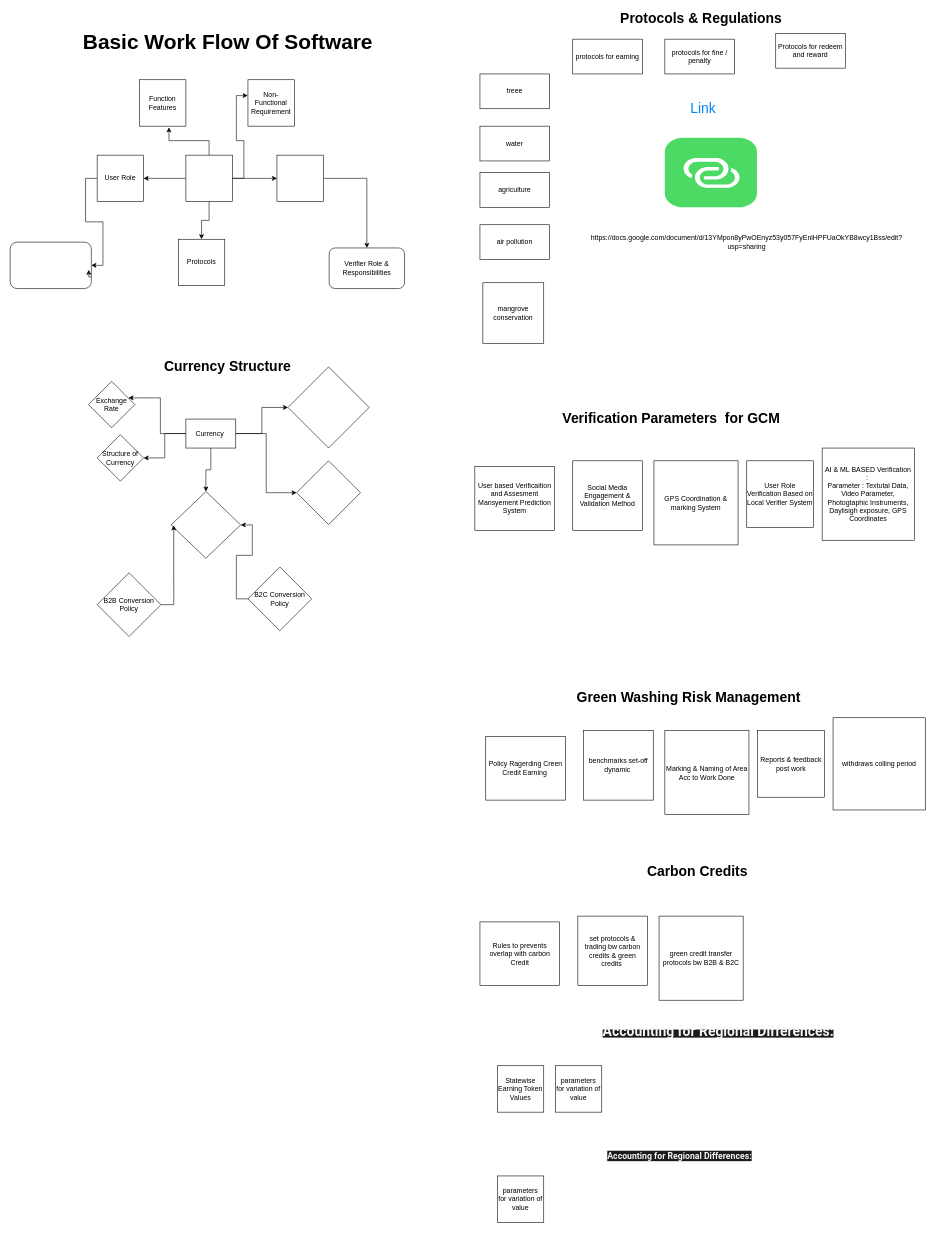
Some shapes in this 936 by 1233 pixel diagram are drawn without their labels. The box of each missing label's shape, as (x1, y1, x2, y2) in pixels:
Currency Growth Using Pollution Standards: (287, 366, 369, 448)
Green Credit Management System: (185, 155, 232, 202)
Security Policy Of Cuurency: (296, 460, 360, 525)
State Wise Earning Conversion: (171, 491, 241, 558)
User Roles & Responsibilities: (10, 242, 91, 289)
Verifier Role: (276, 155, 323, 202)
